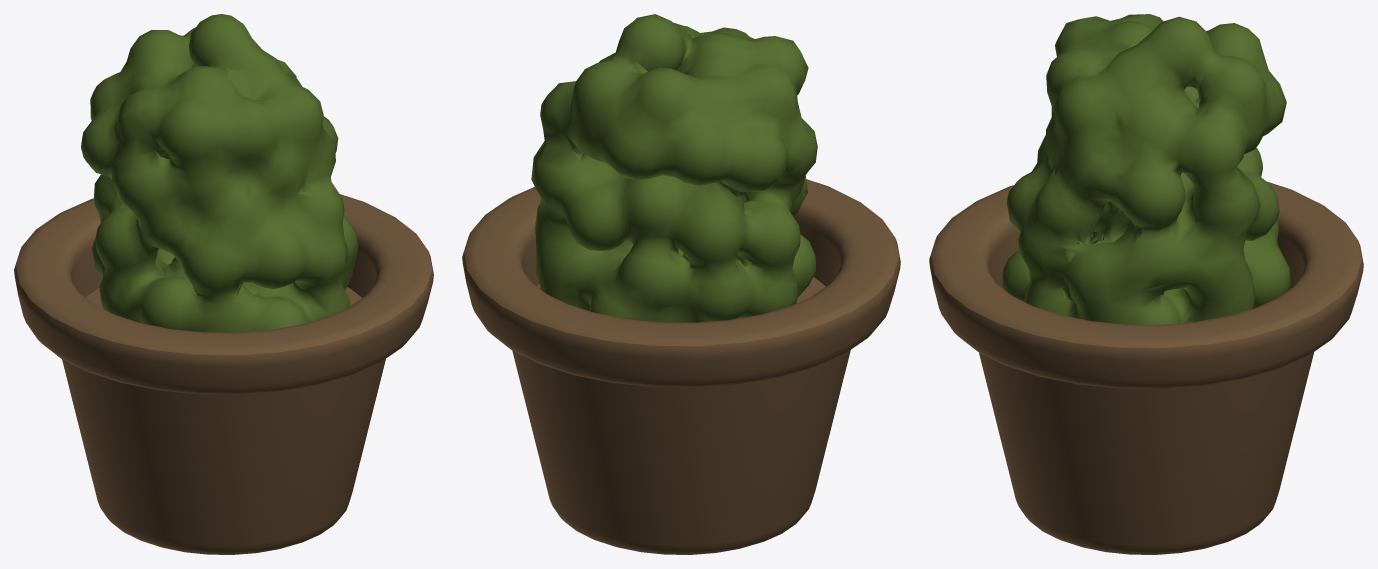
The model's file is Plant.fbx.
3 views of the same model, side by side, from view 1: azimuth 30°, elevation 25°; view 2: azimuth 150°, elevation 25°; view 3: azimuth 270°, elevation 25° (orthographic). The views are drawn at different scales.
Parts seen in each view (by area): view 1: plant_starnick; view 2: plant_starnick; view 3: plant_starnick.
Boxes of the visible parts, x1,y1,x2,y2 form: plant_starnick: (14, 14, 433, 554); plant_starnick: (462, 14, 900, 554); plant_starnick: (929, 14, 1363, 554).
Bounding box in the file's own units: 237 × 238 × 297.
